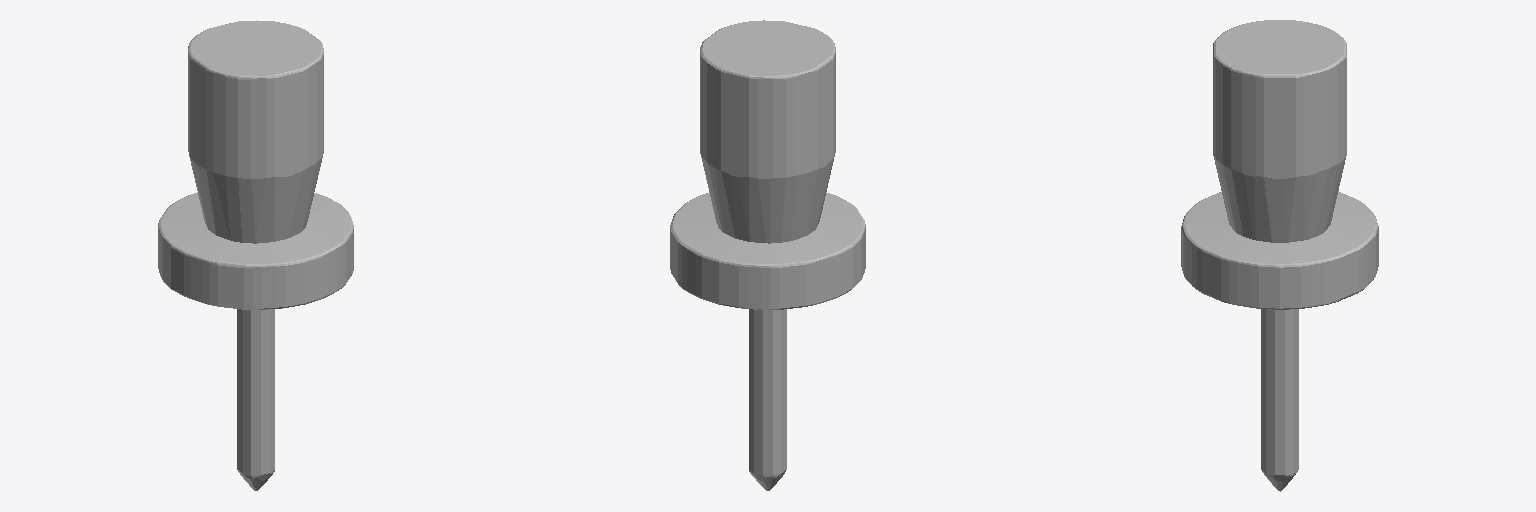
URDF robot description (root):
<?xml version="1.0"?>
<robot name="root">
  <link name="base_link">
    <visual>
      <origin xyz="0 0 0" rpy="0 0 0" />
      <geometry>
        <mesh filename="../meshes/unidex_sem_Thumbtack-85b5858701c7103ceb1b1cfd9c64ee4_008.obj" scale="1.0000E+00 1.0000E+00 1.0000E+00" />
      </geometry>
      <material name="">
        <color rgba="7.50E-01 7.50E-01 7.50E-01 1" />
      </material>
    </visual>
    <collision>
      <origin xyz="0 0 0" rpy="0 0 0" />
      <geometry>
        <mesh filename="../meshes/unidex_sem_Thumbtack-85b5858701c7103ceb1b1cfd9c64ee4_008.obj" scale="1.0000E+00 1.0000E+00 1.0000E+00" />
      </geometry>
    </collision>
  </link>
</robot>

--- Render facts (derived) ---
3 views of the same robot in one strip: view 1: azimuth 30°, elevation 25°; view 2: azimuth 150°, elevation 25°; view 3: azimuth 270°, elevation 25° (orthographic).
Robot: root — 1 links, 0 joints (none); root link base_link; default pose: every joint at zero.
Links seen in each view (by area): view 1: base_link; view 2: base_link; view 3: base_link.
Boxes of the visible links, bbox=[...] form: base_link: bbox=[158, 20, 353, 490]; base_link: bbox=[670, 20, 865, 490]; base_link: bbox=[1181, 20, 1378, 491].
Size in the robot's own frame: 0.0609 by 0.0609 by 0.1513 metres.
Meshes: 1 distinct files referenced, 1 mesh visuals loaded (1 OBJ).
